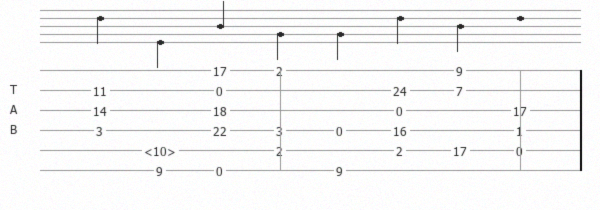0: (216, 164, 227, 177), (216, 84, 227, 97), (336, 124, 347, 137), (396, 104, 407, 117), (516, 144, 527, 157)
1: (516, 124, 527, 137)
11: (93, 84, 111, 97)
14: (93, 104, 111, 117)
16: (393, 124, 411, 137)
17: (213, 64, 231, 77), (453, 144, 471, 157), (513, 104, 531, 117)
18: (213, 104, 231, 117)
2: (276, 144, 287, 157), (276, 64, 287, 77), (396, 144, 407, 157)
22: (213, 124, 231, 137)
24: (393, 84, 411, 97)
3: (96, 124, 107, 137), (276, 124, 287, 137)
7: (456, 84, 467, 97)
9: (156, 164, 167, 177), (336, 164, 347, 177), (456, 64, 467, 77)
harmonic: (144, 144, 180, 157)
